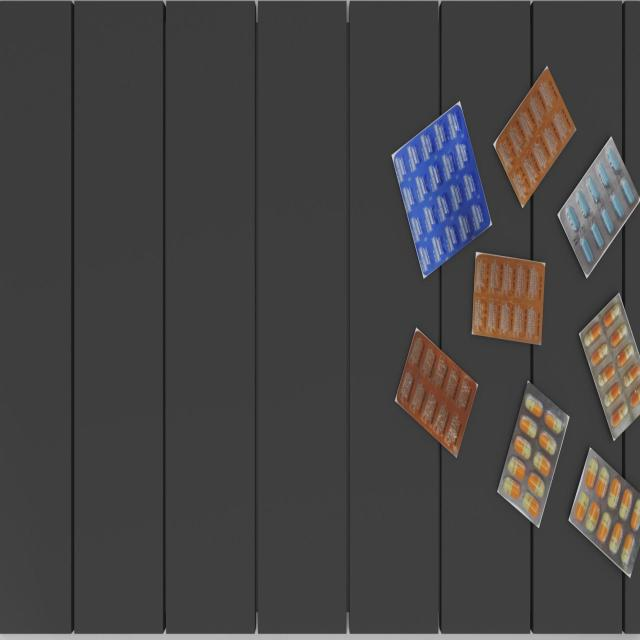blister: (387, 91, 493, 285), (494, 57, 577, 216), (560, 126, 640, 283), (393, 323, 481, 464), (493, 374, 570, 531), (564, 442, 640, 583), (578, 283, 639, 442), (467, 239, 548, 355)
